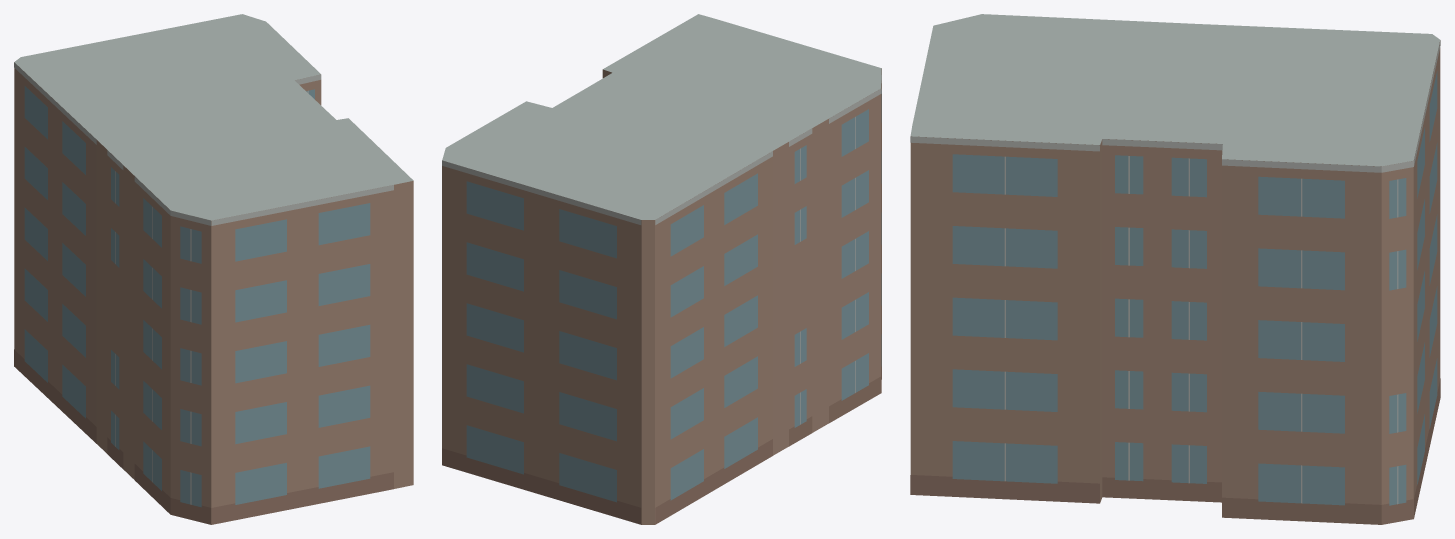
The model's file is survey-upis-32955932.glb.
3 views of the same model, side by side, from view 1: azimuth 30°, elevation 25°; view 2: azimuth 150°, elevation 25°; view 3: azimuth 270°, elevation 25° (orthographic). The views are drawn at different scales.
Visible parts, largest first — view 1: survey-upis-32955932.tmp; view 2: survey-upis-32955932.tmp; view 3: survey-upis-32955932.tmp.
Boxes of the visible parts, x1=… form: survey-upis-32955932.tmp: x1=14, y1=14, x2=413, y2=524; survey-upis-32955932.tmp: x1=442, y1=14, x2=881, y2=524; survey-upis-32955932.tmp: x1=910, y1=14, x2=1440, y2=524.
Bounding box in the file's own units: 12.5 × 13.7 × 18.36.
